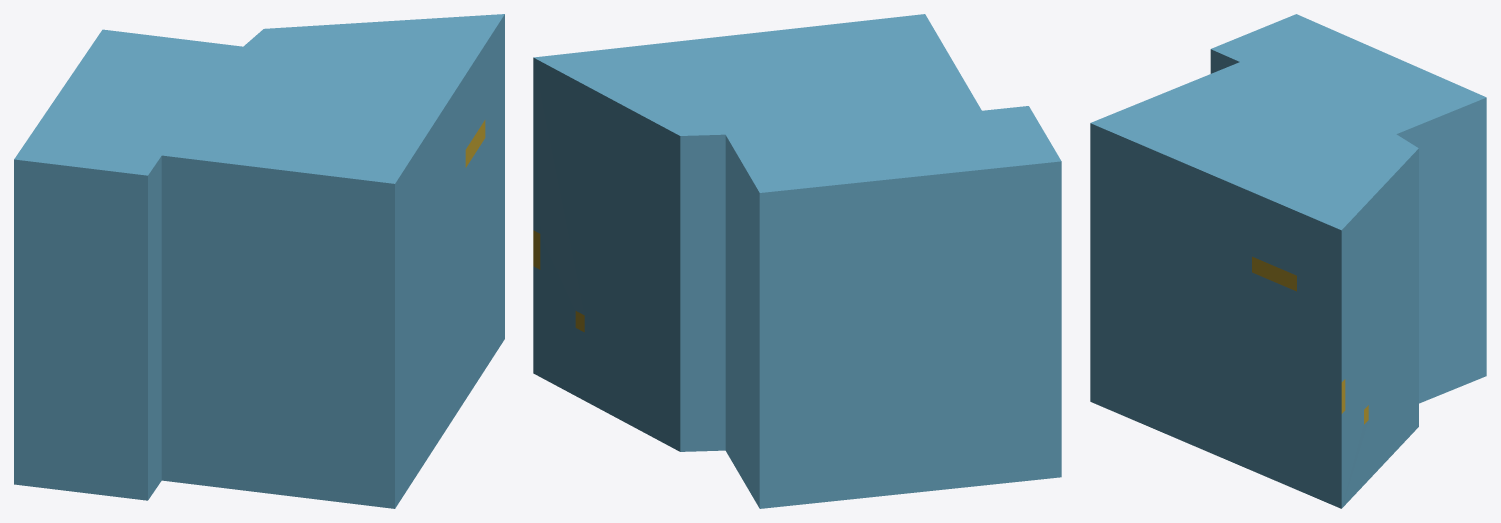
Rendered from bldg_a05ef260-6f00-4f86-82c2-54c54888f2f5.obj.
The picture shows the model from 3 angles, left to right: view 1: azimuth 30°, elevation 25°; view 2: azimuth 150°, elevation 25°; view 3: azimuth 270°, elevation 25°; orthographic projection. The views are drawn at different scales.
Bounding box in the file's own units: 18.51 × 11.12 × 14.34.
